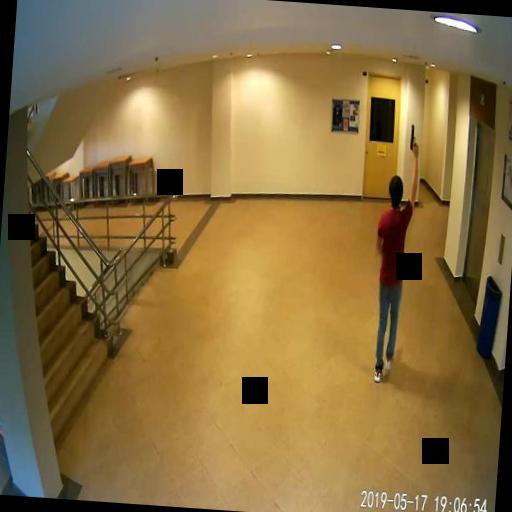Handgun: (408, 123, 420, 154)
